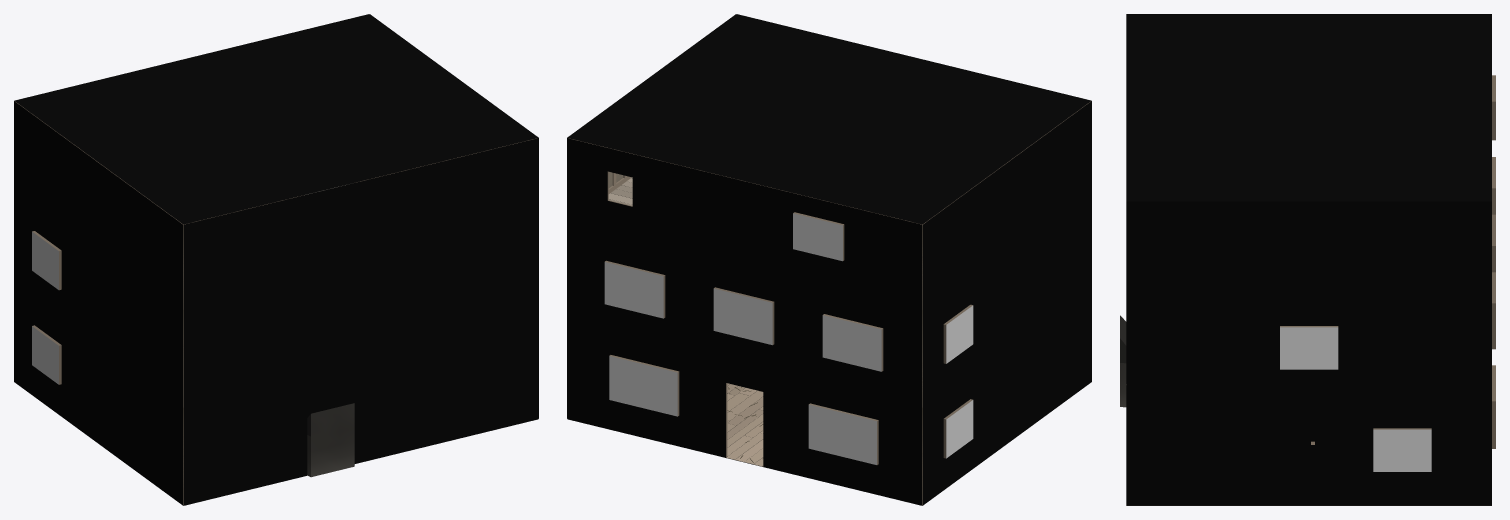
The model's file is env_inn_rooms.glb.
3 views of the same model, side by side, from view 1: azimuth 30°, elevation 25°; view 2: azimuth 150°, elevation 25°; view 3: azimuth 270°, elevation 25° (orthographic). The views are drawn at different scales.
Visible parts, largest first — view 1: InnSecond, InnGround, InnFirst; view 2: InnSecond, InnGround, InnFirst; view 3: InnSecond, InnGround, InnFirst.
Boxes of the visible parts, x1,y1,x2,y2 form: InnSecond: (14,14,538,505); InnGround: (32,325,354,505); InnFirst: (32,231,183,407); InnSecond: (567,14,1091,505); InnGround: (609,355,973,505); InnFirst: (604,260,973,407); InnSecond: (1126,14,1495,505); InnGround: (1120,315,1495,505); InnFirst: (1280,157,1495,369).
Size of the model in its own units: 11.6 by 8.65 by 9.66.
